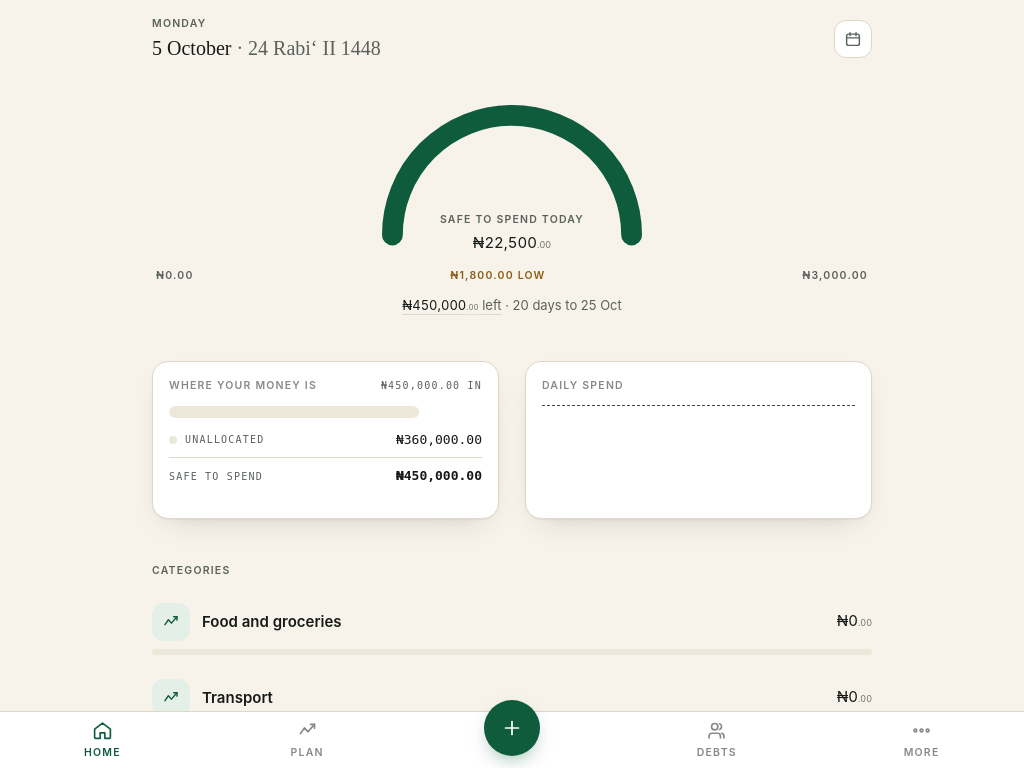
the type decides what else is asked for › offers income categories only when receiving money
Check: the heading "Safe to spend today" is shown, box [440, 212, 584, 228]
Click the button named "Add a movement": click(512, 728) [484, 700, 540, 756]
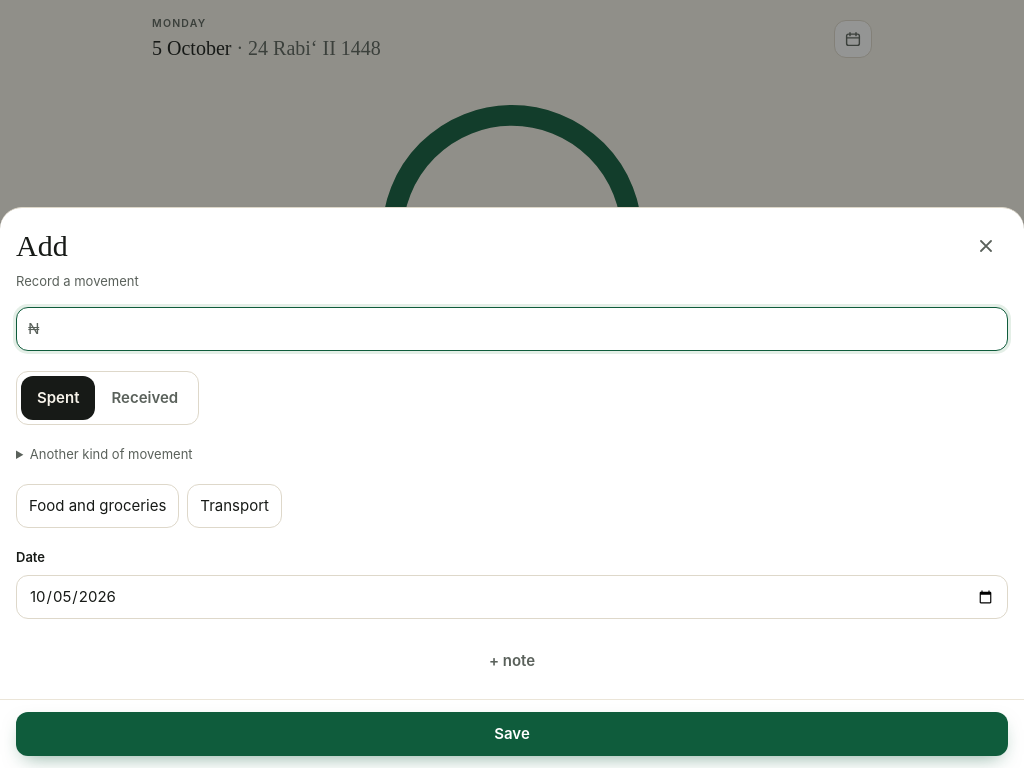
Click the tab "Received": click(145, 398) [96, 376, 194, 420]
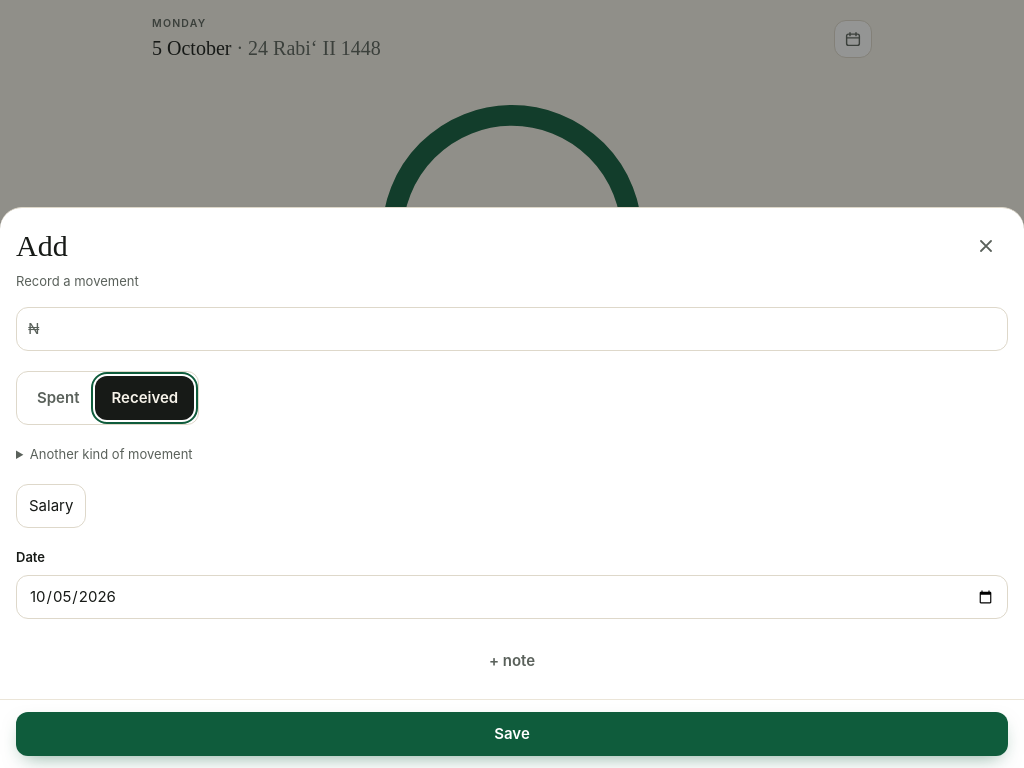
Check: the radio button labelled "Salary" is shown, box [16, 484, 86, 528]
